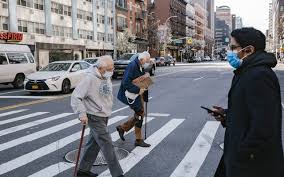mask: (220, 22, 268, 70), (93, 49, 116, 80), (136, 48, 153, 69)
